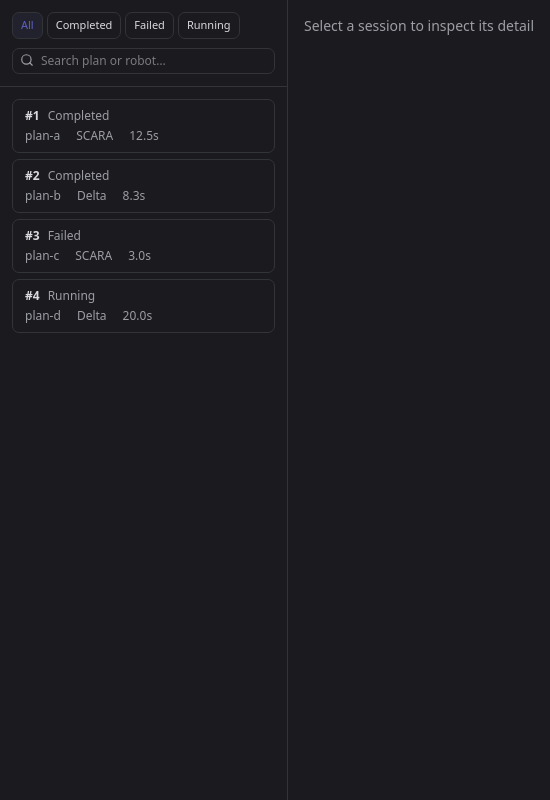
Scenario: SessionBrowser — presentation-only filters and search (C3) › filters by a single status
Click the button "Completed" at (84, 25), box [47,12,121,38]
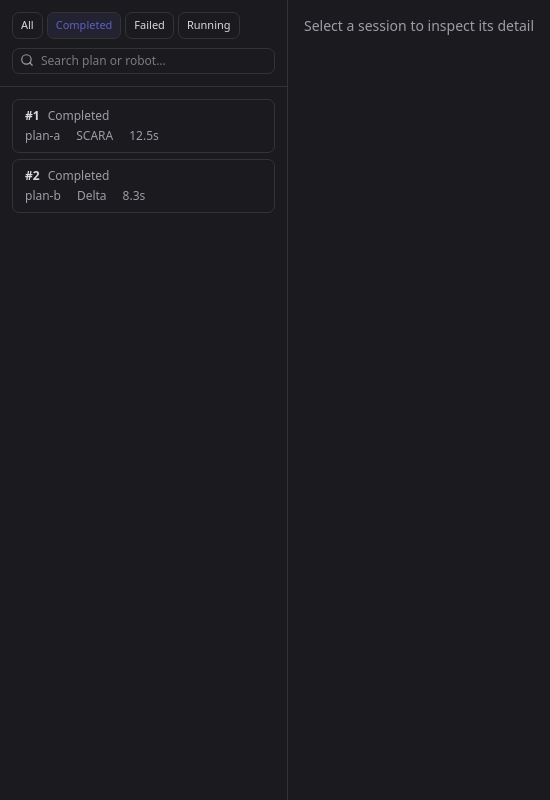
expect the number of list items is 2: met, box [12,98,275,152]; [12,158,275,212]
expect the button "#3" is gone: met
expect the button "#4" is gone: met
